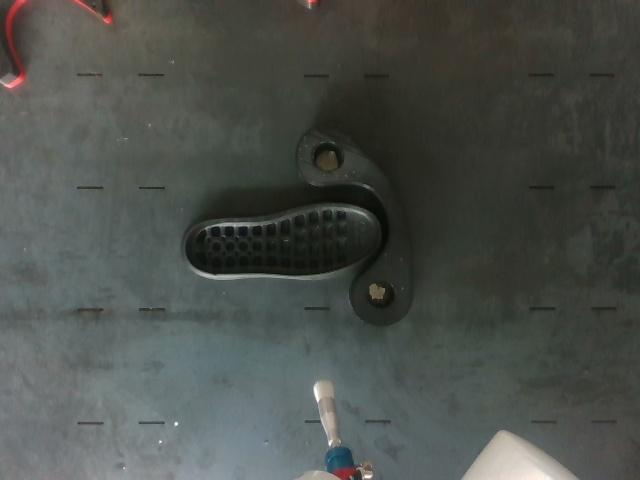shoes: (184, 207, 380, 278)
